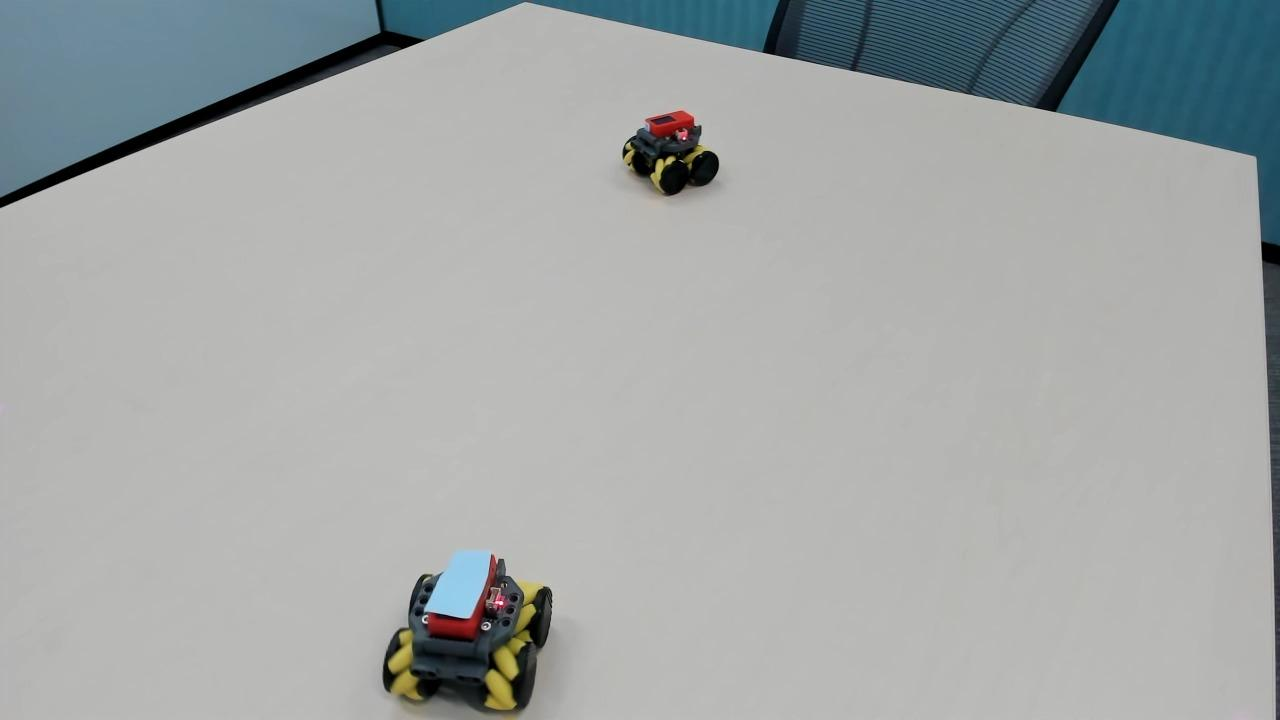B-Robot: (373, 539, 576, 715)
R-Robot: (622, 96, 728, 209)
